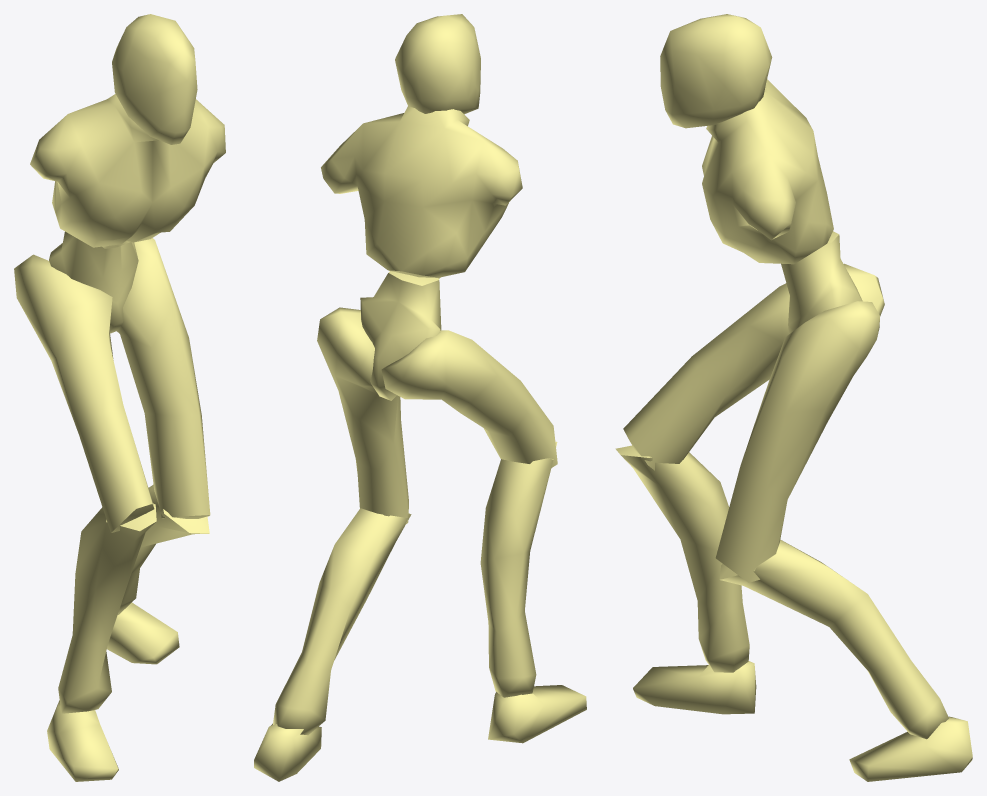
File: filth.obj
3 views of the same model, side by side, from view 1: azimuth 30°, elevation 25°; view 2: azimuth 150°, elevation 25°; view 3: azimuth 270°, elevation 25° (orthographic). The views are drawn at different scales.
Parts seen in each view (by area): view 1: Melee_Husk.001; view 2: Melee_Husk.001; view 3: Melee_Husk.001.
Boxes of the visible parts, left/top/right/bottom form: Melee_Husk.001: left=14, top=14, right=225, bottom=781; Melee_Husk.001: left=254, top=14, right=586, bottom=781; Melee_Husk.001: left=615, top=14, right=972, bottom=781.
Size of the model in its own units: 22.17 by 71.68 by 31.78.
